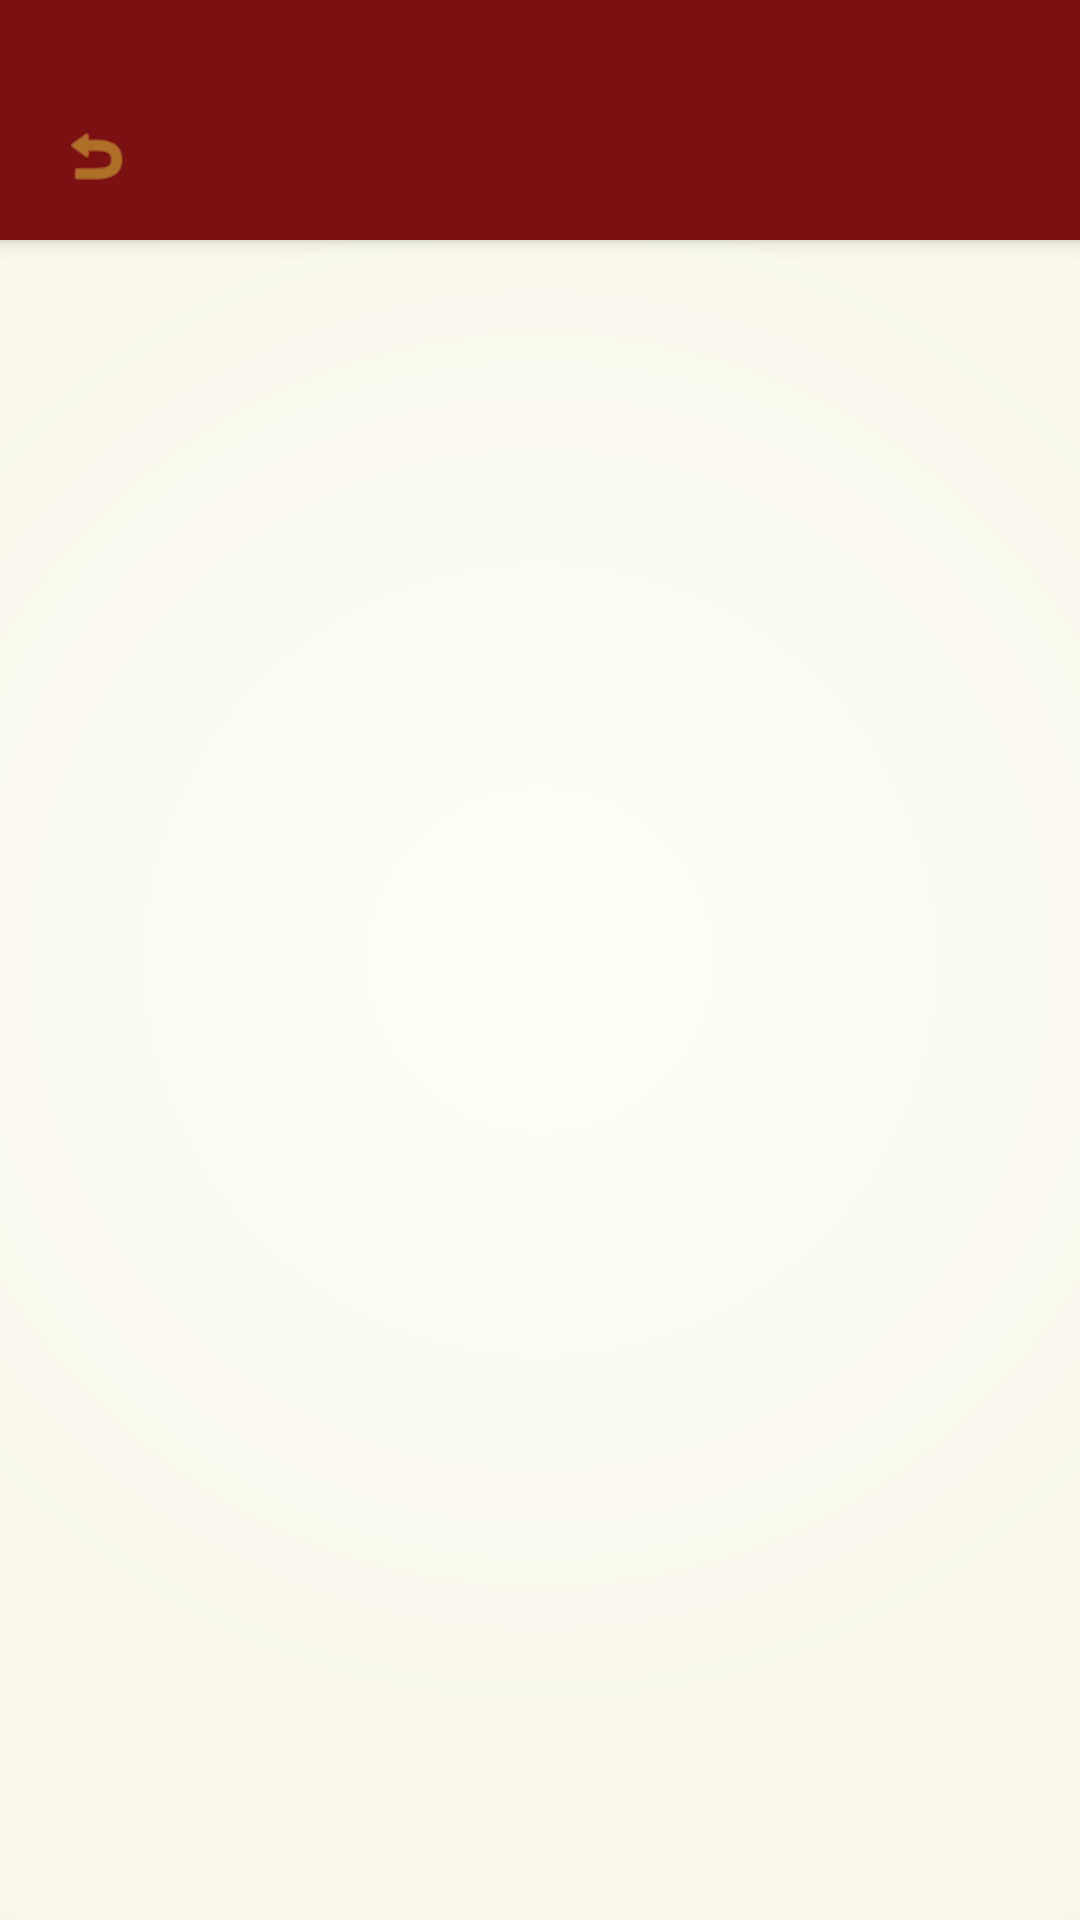

Locate icon controls on the screen. Image size 1080x1920, boxes as (x1, y1, x2, y2).
revert: (71, 133, 123, 180)
